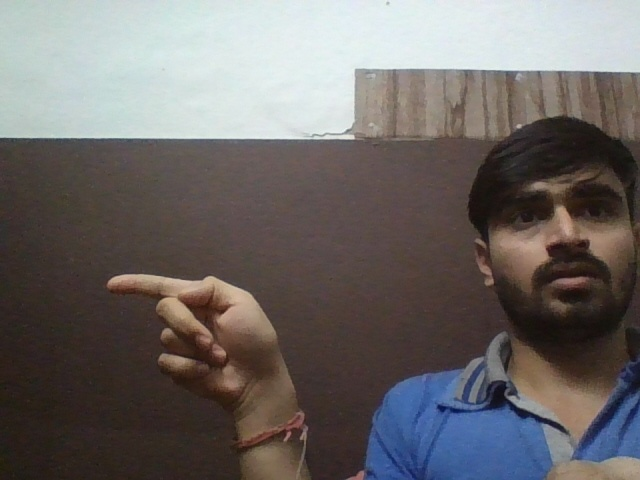G: (105, 269, 291, 406)
